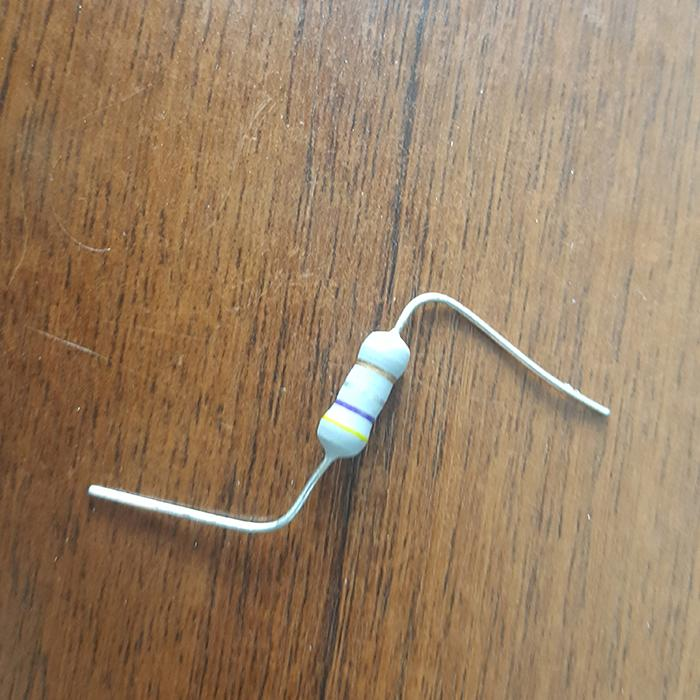resistor: (317, 327, 412, 459)
